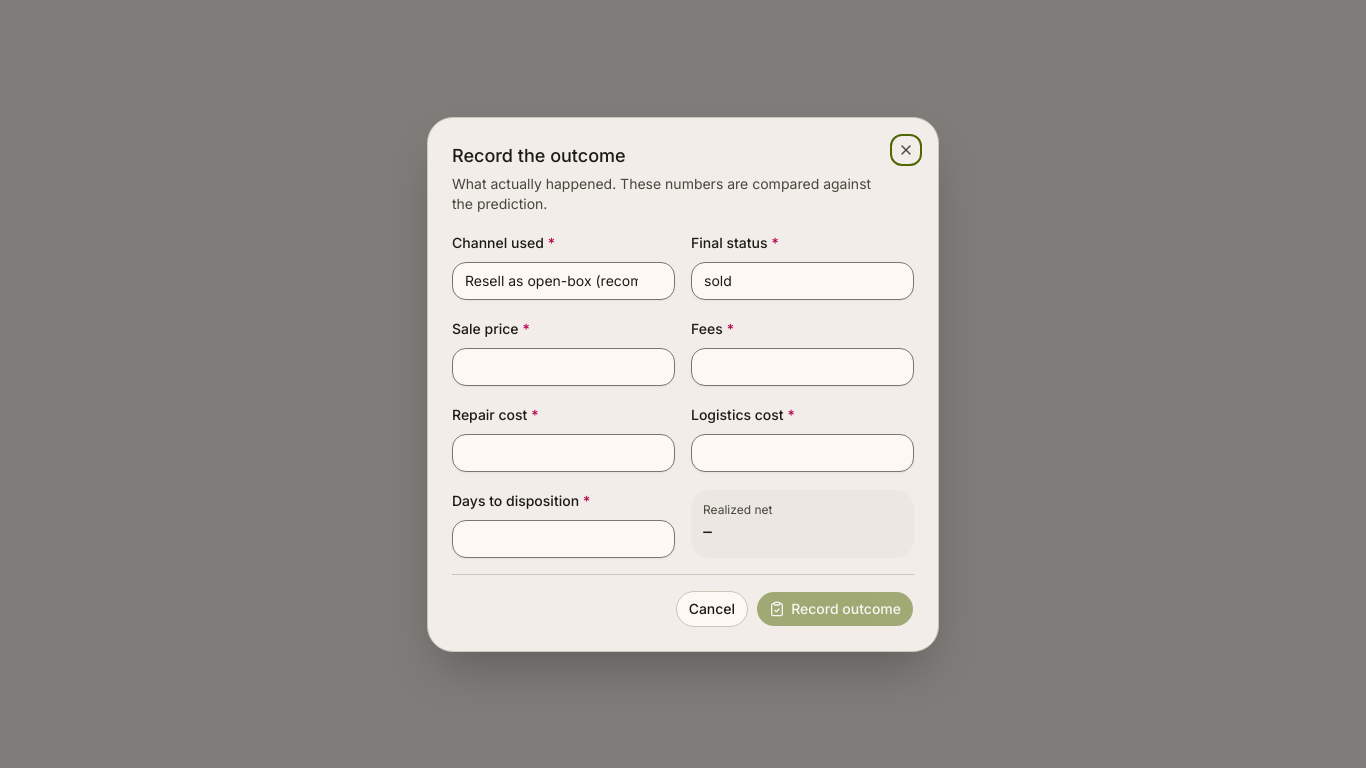
Test: OutcomeDialog › keeps submit disabled until every number is provided
Check: the button "Record outcome" is disabled, box [756,590,914,626]
Type "1000" into the number field labelled "Sale price*".
click(564, 366); type("1000")  # box [452,348,675,386]
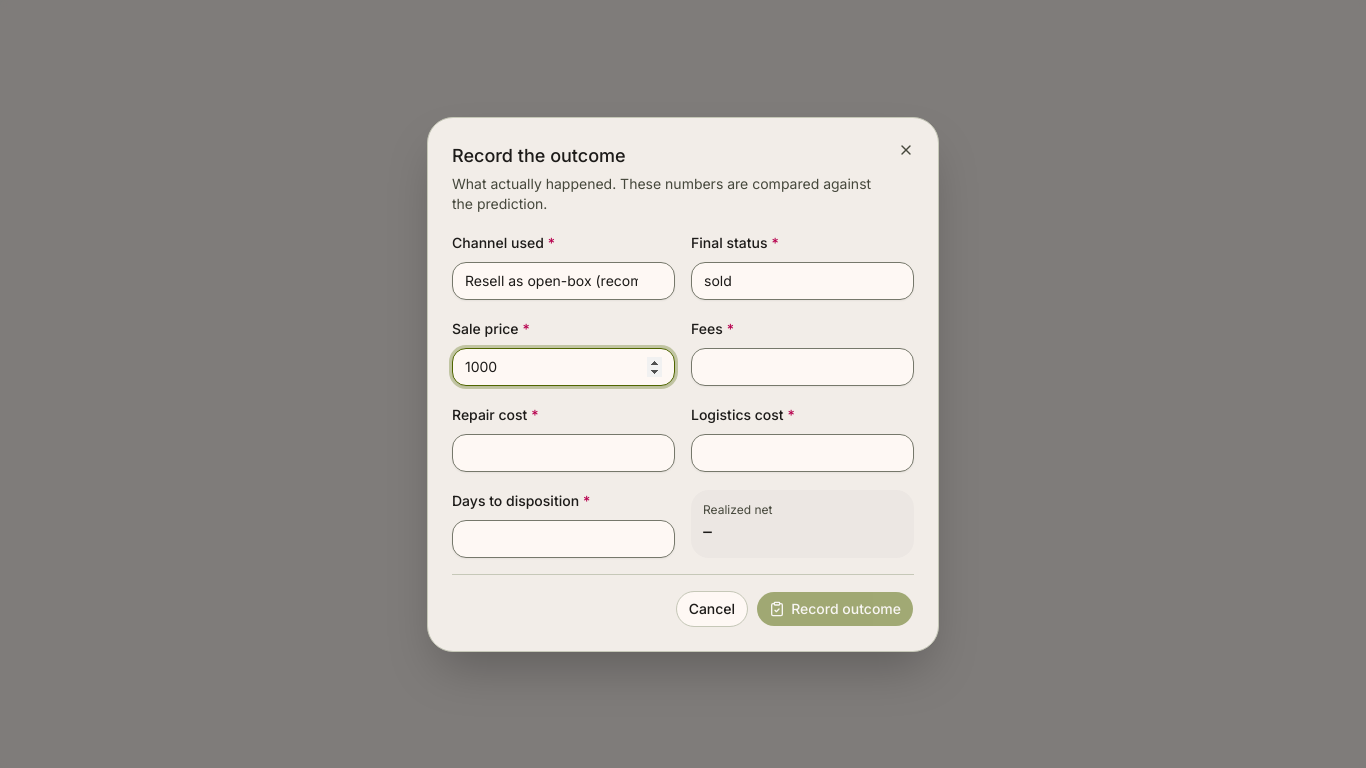
Check: the button "Record outcome" is disabled, box [756,590,914,626]
Type "120" into the number field labelled "Fees*".
click(802, 366); type("120")  # box [691,348,914,386]
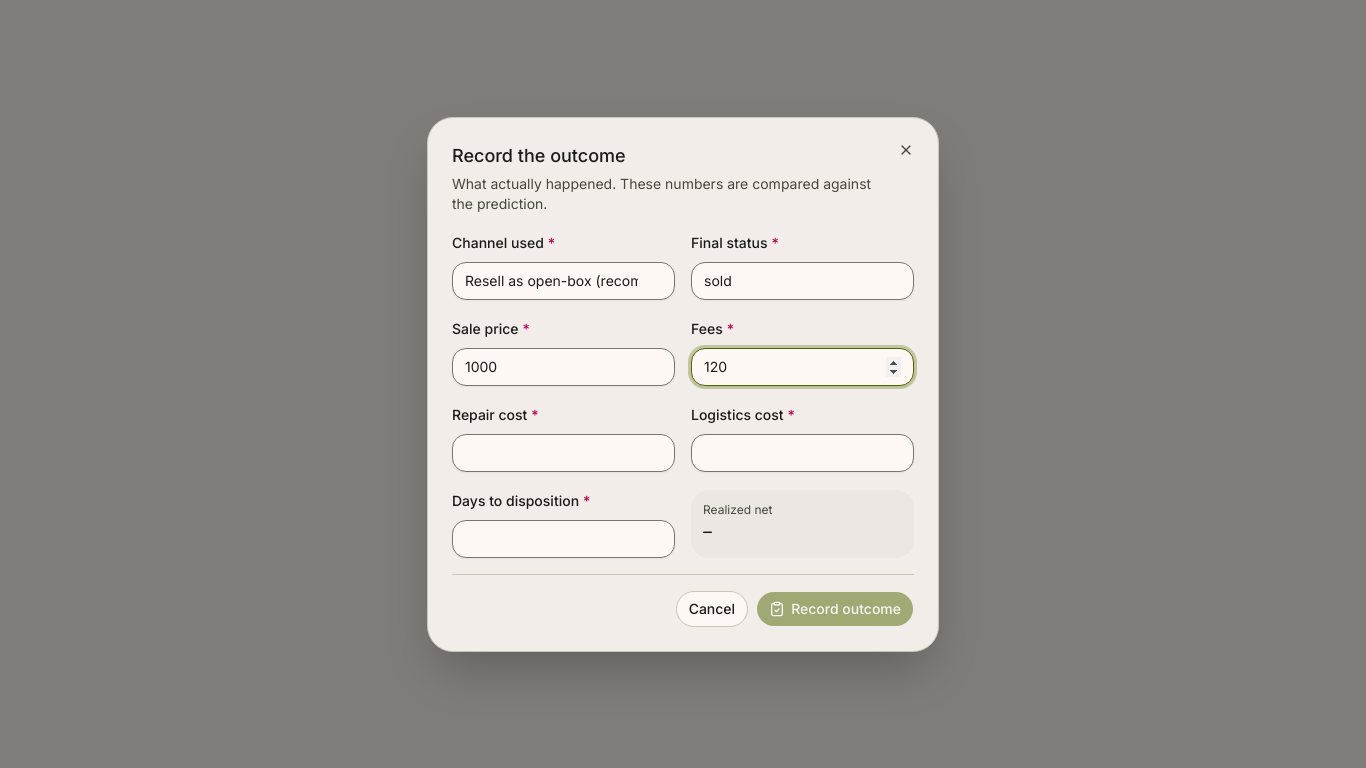
Type "0" into the number field labelled "Repair cost*".
click(564, 452); type("0")  # box [452,434,675,472]
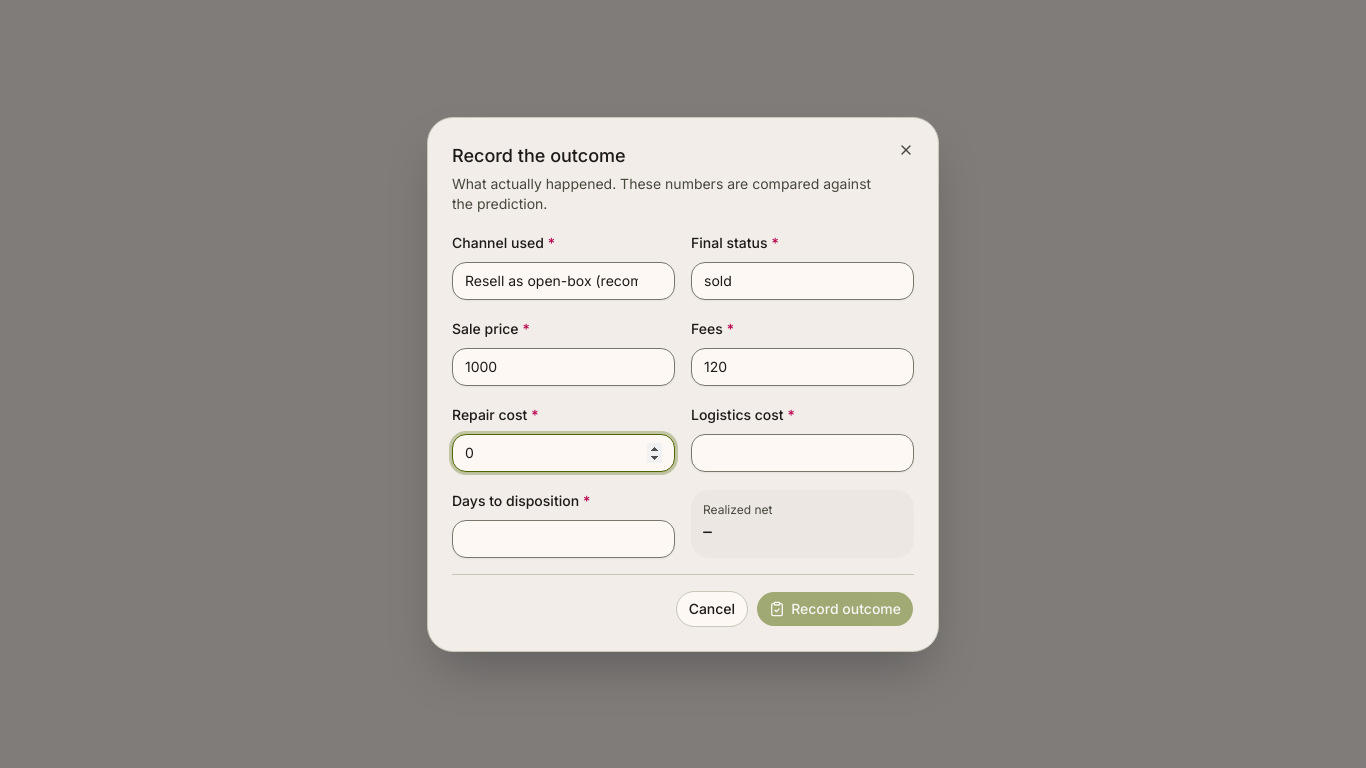
Type "25" into the number field labelled "Logistics cost*".
click(802, 452); type("25")  # box [691,434,914,472]
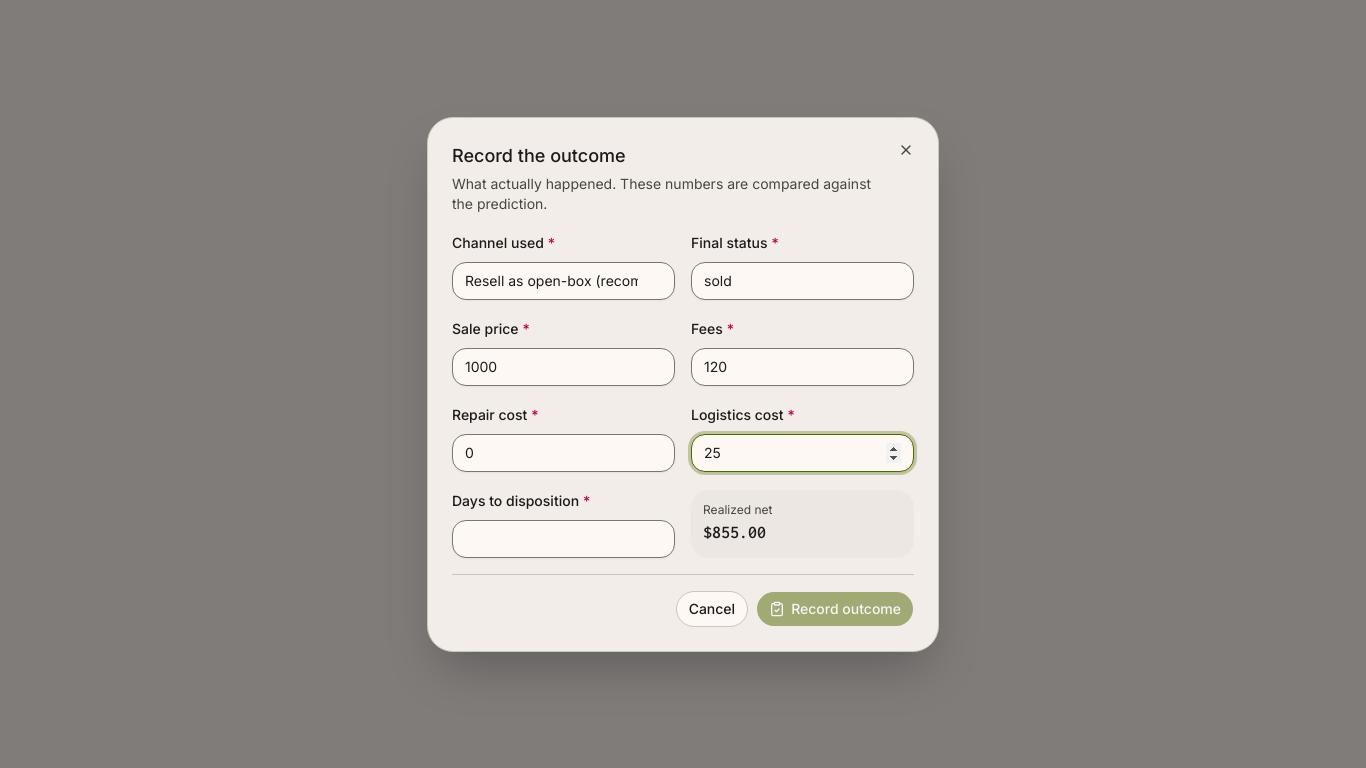
Type "7" into the number field labelled "Days to disposition*".
click(564, 538); type("7")  # box [452,520,675,558]
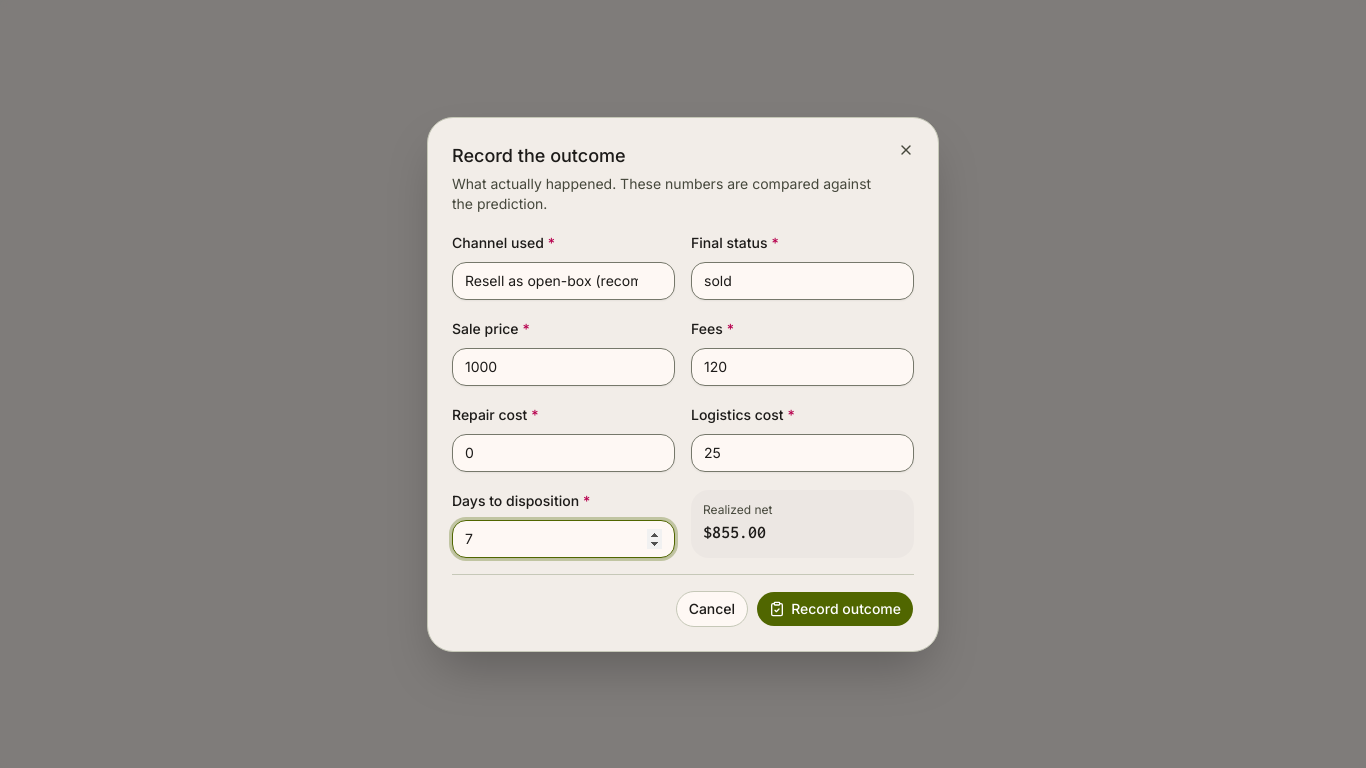
Check: the button "Record outcome" is enabled, box [756,590,914,626]
